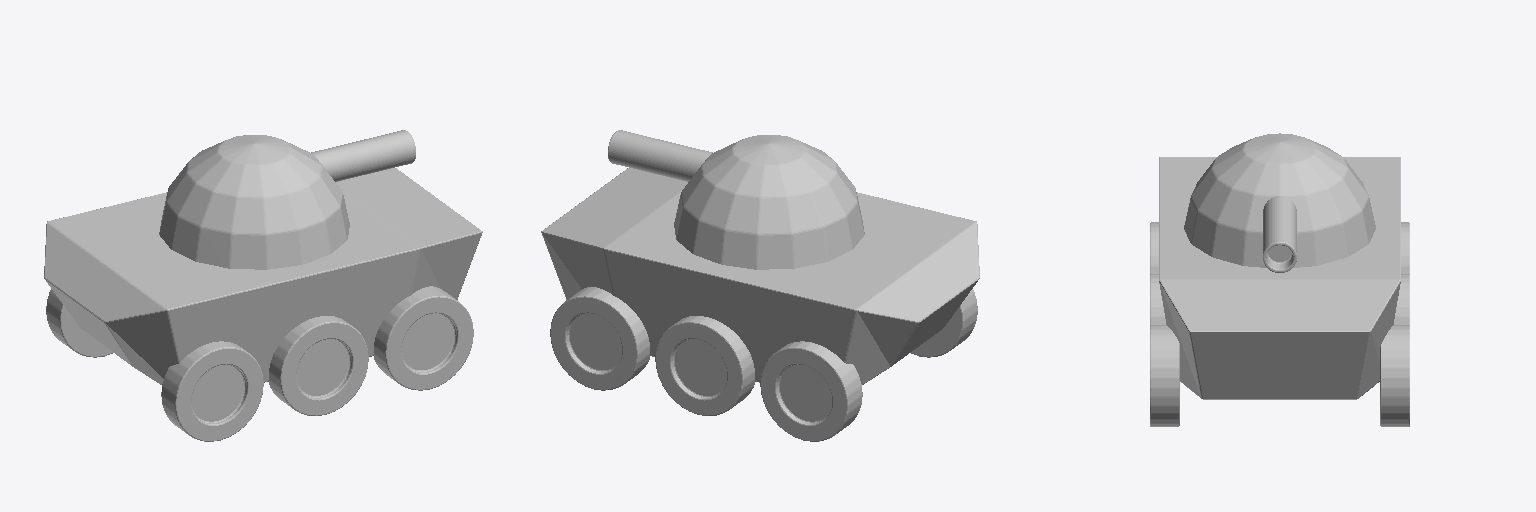
The model's file is WarLight2.obj.
3 renders of one model, left to right at view 1: azimuth 30°, elevation 25°; view 2: azimuth 150°, elevation 25°; view 3: azimuth 270°, elevation 25°, orthographic.
Visible parts, largest first — view 1: Cube.001; view 2: Cube.001; view 3: Cube.001.
Part boxes in pixels (bbox=[...]): Cube.001: bbox=[44, 130, 482, 441]; Cube.001: bbox=[541, 130, 979, 441]; Cube.001: bbox=[1150, 133, 1409, 426].
Size of the model in its own units: 3.46 by 2.05 by 2.15.